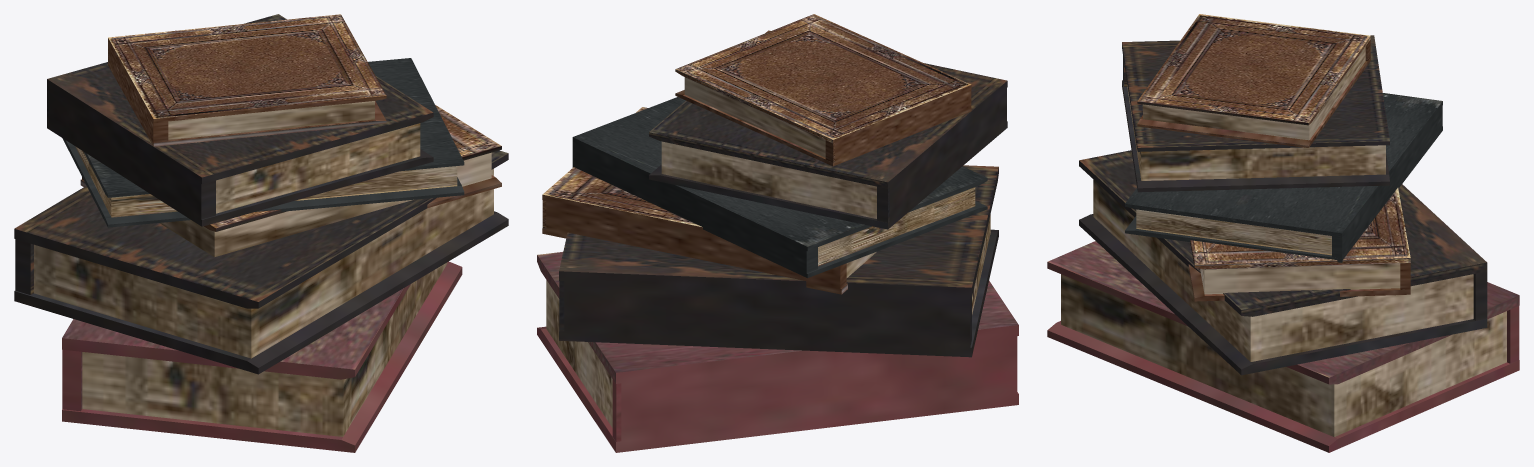
Rendered from book_stack1.fbx.
3 renders of one model, left to right at view 1: azimuth 30°, elevation 25°; view 2: azimuth 150°, elevation 25°; view 3: azimuth 270°, elevation 25°, orthographic. The views are drawn at different scales.
Visible parts, largest first — view 1: Cube.017; view 2: Cube.017; view 3: Cube.017.
Boxes of the visible parts, box(x1,y1,x2,y2) form: Cube.017: box(14, 14, 508, 452); Cube.017: box(537, 14, 1018, 452); Cube.017: box(1047, 14, 1519, 452).
Size of the model in its own units: 132 by 84.06 by 133.
